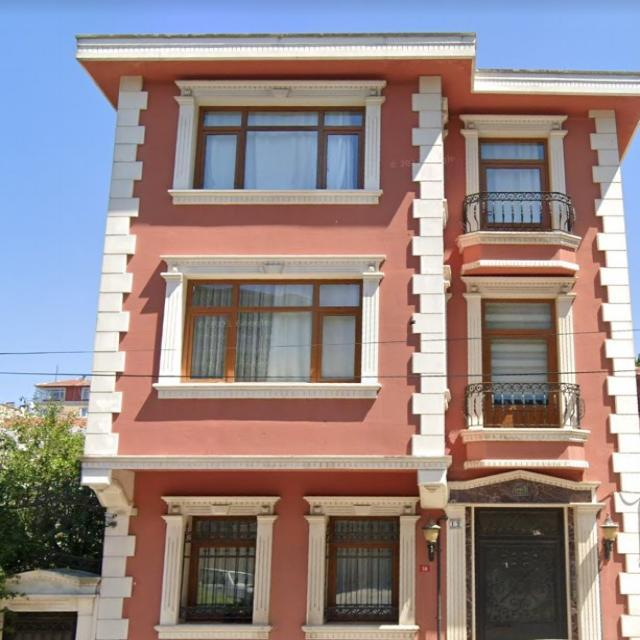Building: (77, 33, 640, 640)
